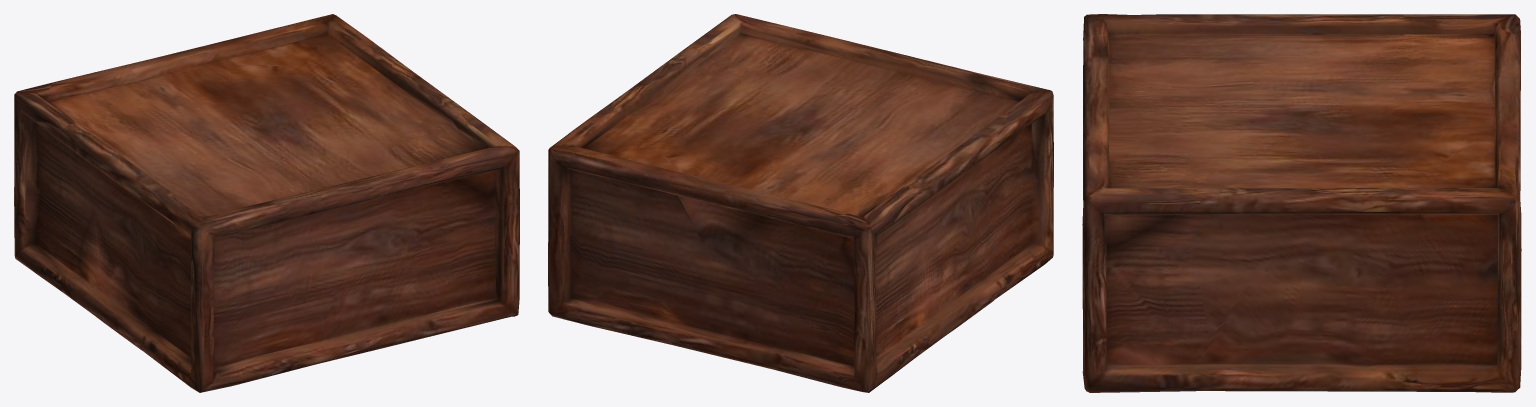
The model's file is 木质复古装饰面板.glb.
3 renders of one model, left to right at view 1: azimuth 30°, elevation 25°; view 2: azimuth 150°, elevation 25°; view 3: azimuth 270°, elevation 25°, orthographic. The views are drawn at different scales.
Visible parts, largest first — view 1: tripo_node_88785015-91cf-4c98-aeea-95f5db2d1caa; view 2: tripo_node_88785015-91cf-4c98-aeea-95f5db2d1caa; view 3: tripo_node_88785015-91cf-4c98-aeea-95f5db2d1caa.
Boxes of the visible parts, x1,y1,x2,y2 form: tripo_node_88785015-91cf-4c98-aeea-95f5db2d1caa: (14, 14, 519, 392); tripo_node_88785015-91cf-4c98-aeea-95f5db2d1caa: (548, 14, 1053, 392); tripo_node_88785015-91cf-4c98-aeea-95f5db2d1caa: (1082, 14, 1521, 392).
Bounding box in the file's own units: 1 × 0.5034 × 0.9996.
Materials: 1 (1 with a texture image).
